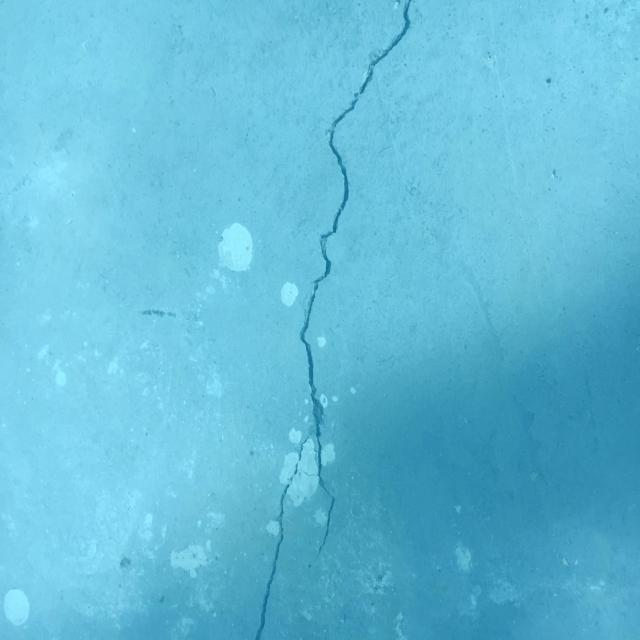crack: (254, 0, 413, 640)
